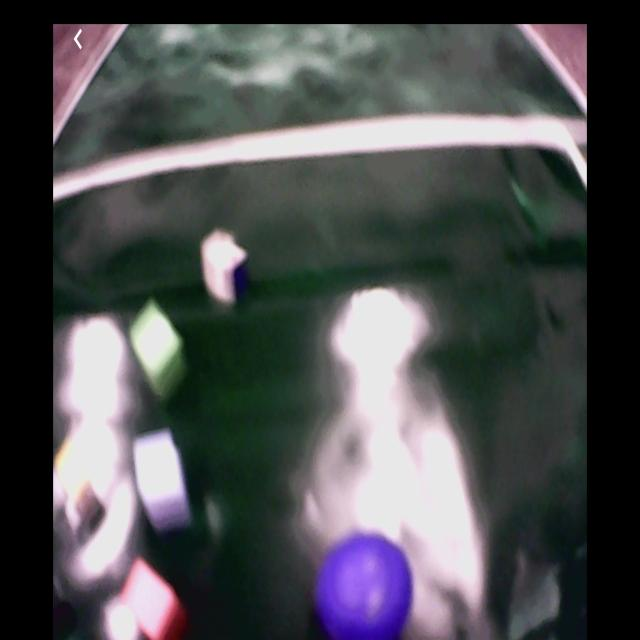ball: (319, 536, 409, 640)
